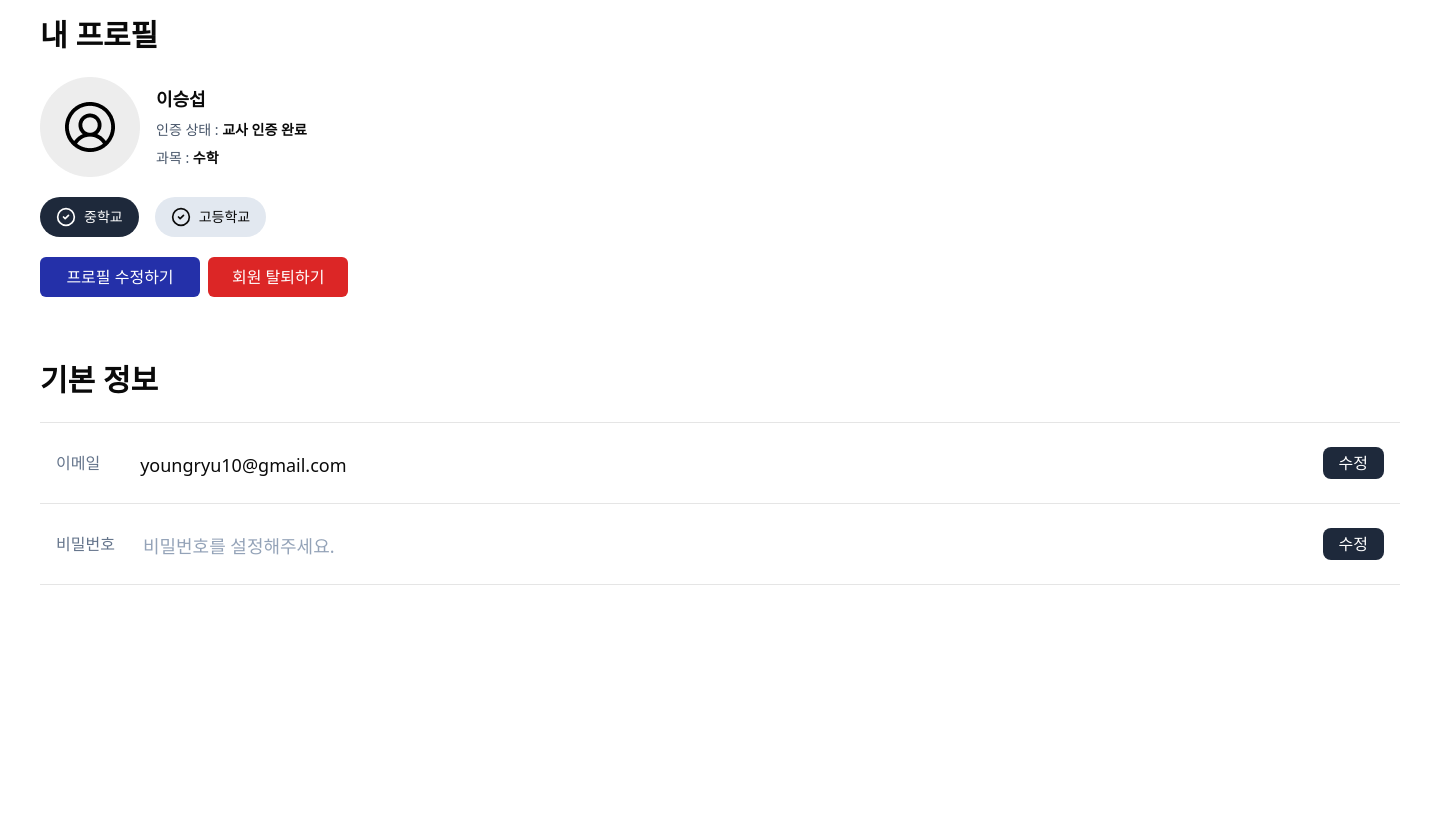
Scenario: profile 기능 통합 테스트 › 프로필 수정하기 버튼을 누르면 profile-edit 컴포넌트가 정상적으로 렌더링된다
Click the button "프로필 수정하기" at (120, 277), box x1=40 y1=257 x2=200 y2=297
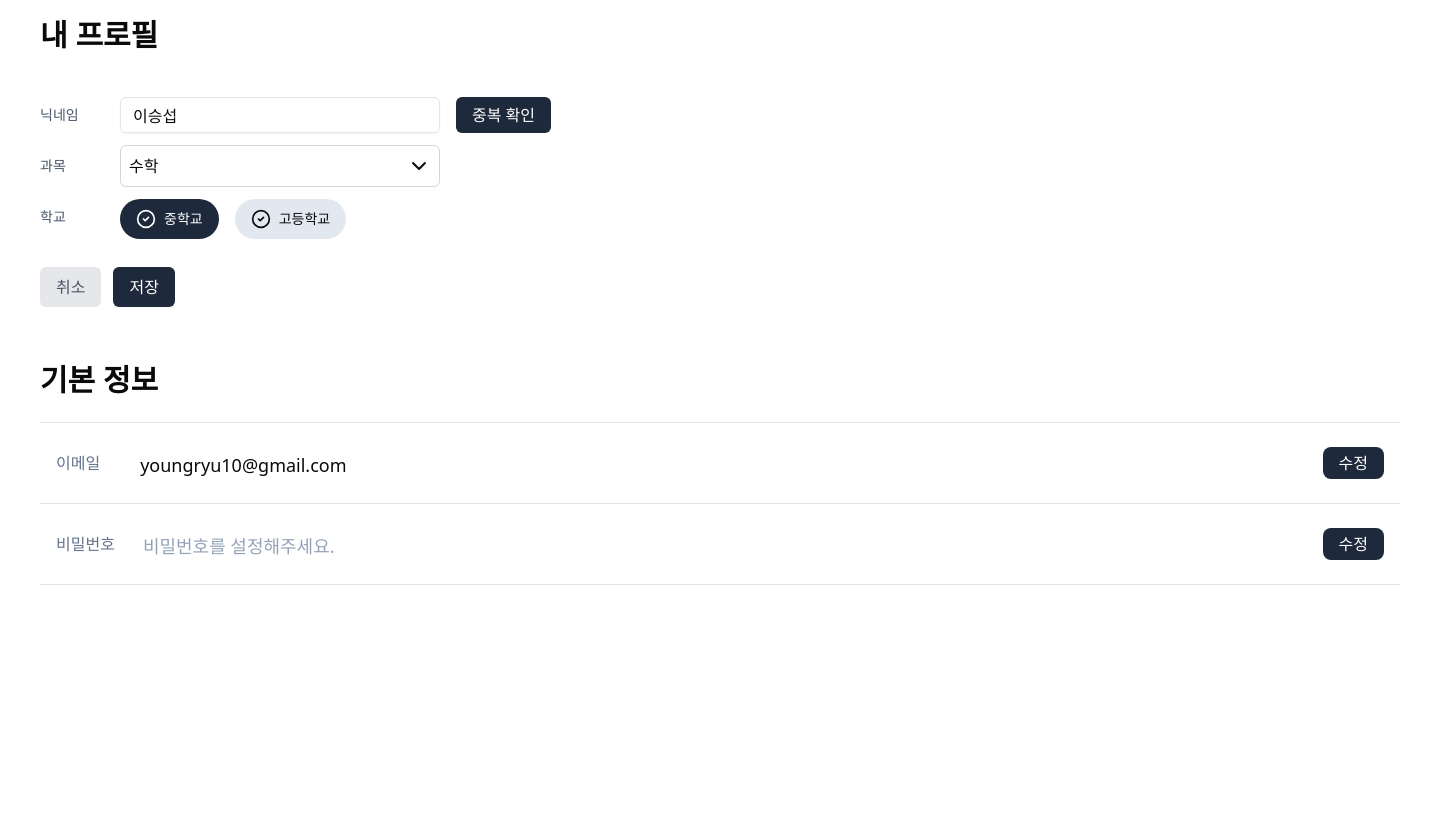
Now the text "닉네임" is shown, box x1=40 y1=105 x2=79 y2=124
Now the field with placeholder "닉네임을 입력하세요" is shown, box x1=120 y1=97 x2=440 y2=133
Now the text "학교" is shown, box x1=40 y1=207 x2=66 y2=226
